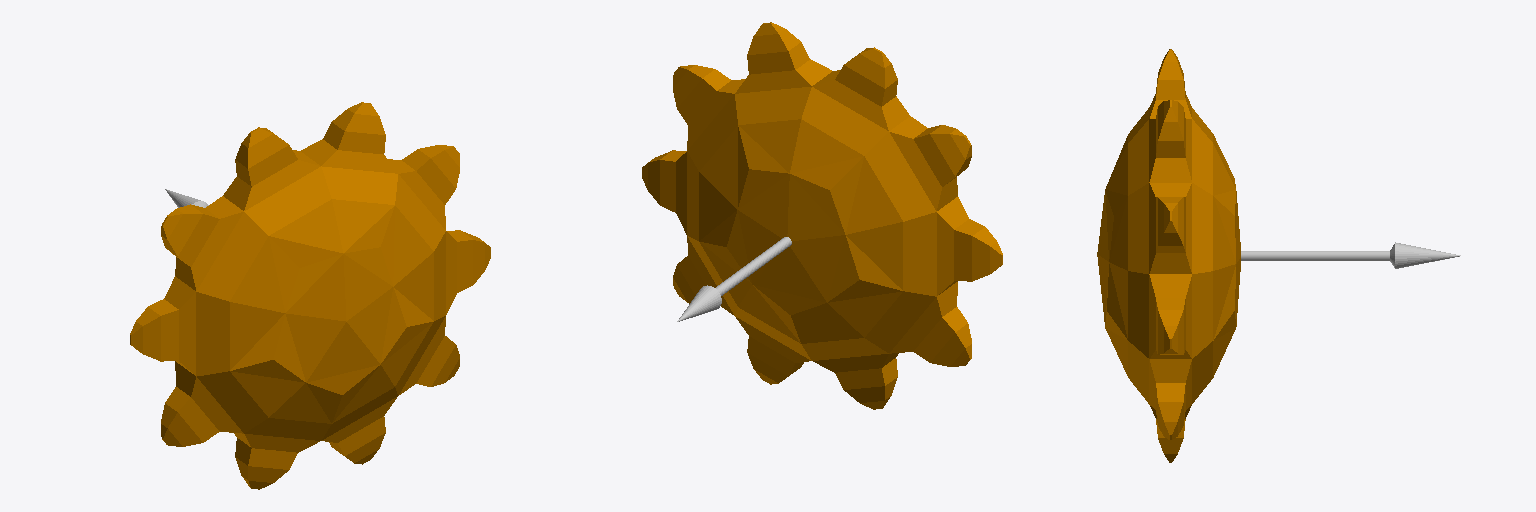
Rendered from sun.obj.
3 renders of one model, left to right at view 1: azimuth 30°, elevation 25°; view 2: azimuth 150°, elevation 25°; view 3: azimuth 270°, elevation 25°, orthographic.
Parts seen in each view (by area): view 1: Sun_Cartoon_Lowpoly.obj; view 2: Sun_Cartoon_Lowpoly.obj, Cone; view 3: Sun_Cartoon_Lowpoly.obj, Cone.
Boxes of the visible parts, box(x1,y1,x2,y2) form: Sun_Cartoon_Lowpoly.obj: box(130, 102, 490, 489); Sun_Cartoon_Lowpoly.obj: box(642, 22, 1002, 409); Cone: box(677, 237, 791, 321); Sun_Cartoon_Lowpoly.obj: box(1097, 49, 1240, 462); Cone: box(1241, 242, 1460, 268).
Bounding box in the file's own units: 3.09 × 2.96 × 2.71.